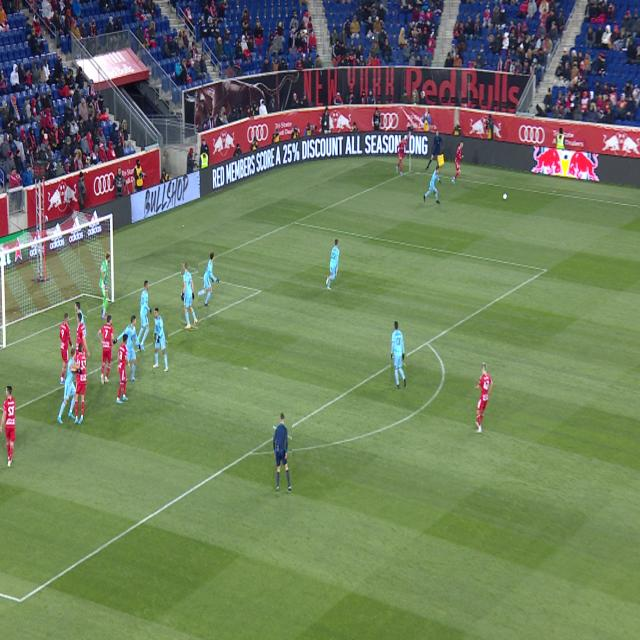football: (503, 192, 507, 200)
goalkeeper: (99, 251, 110, 319)
player: (111, 315, 141, 381), (57, 349, 80, 424), (475, 363, 493, 433), (97, 316, 115, 385), (0, 386, 15, 468), (72, 343, 87, 425), (197, 253, 219, 307), (181, 263, 198, 329), (391, 321, 406, 388), (60, 313, 74, 384), (138, 280, 152, 351), (116, 334, 130, 404), (153, 308, 168, 372), (74, 313, 91, 363), (326, 239, 339, 290), (424, 166, 441, 204), (452, 140, 464, 184), (396, 135, 407, 176), (75, 302, 87, 338), (135, 340, 138, 345), (84, 322, 85, 326)
referee: (273, 413, 292, 492)
